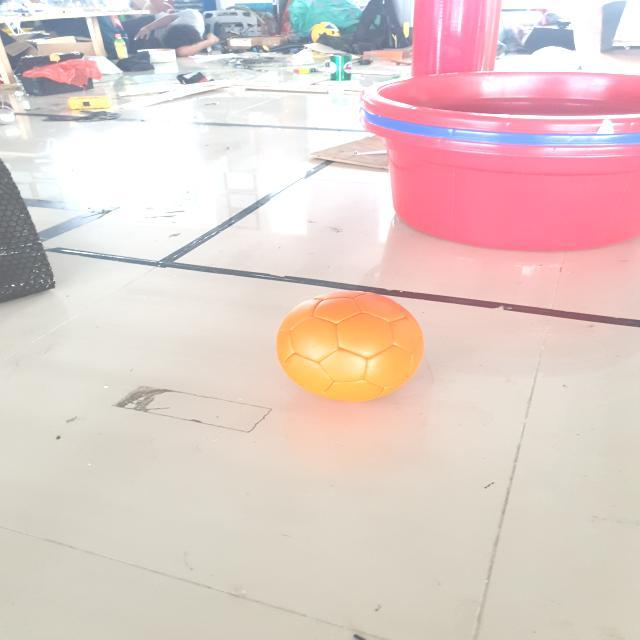bola: (270, 282, 430, 416)
